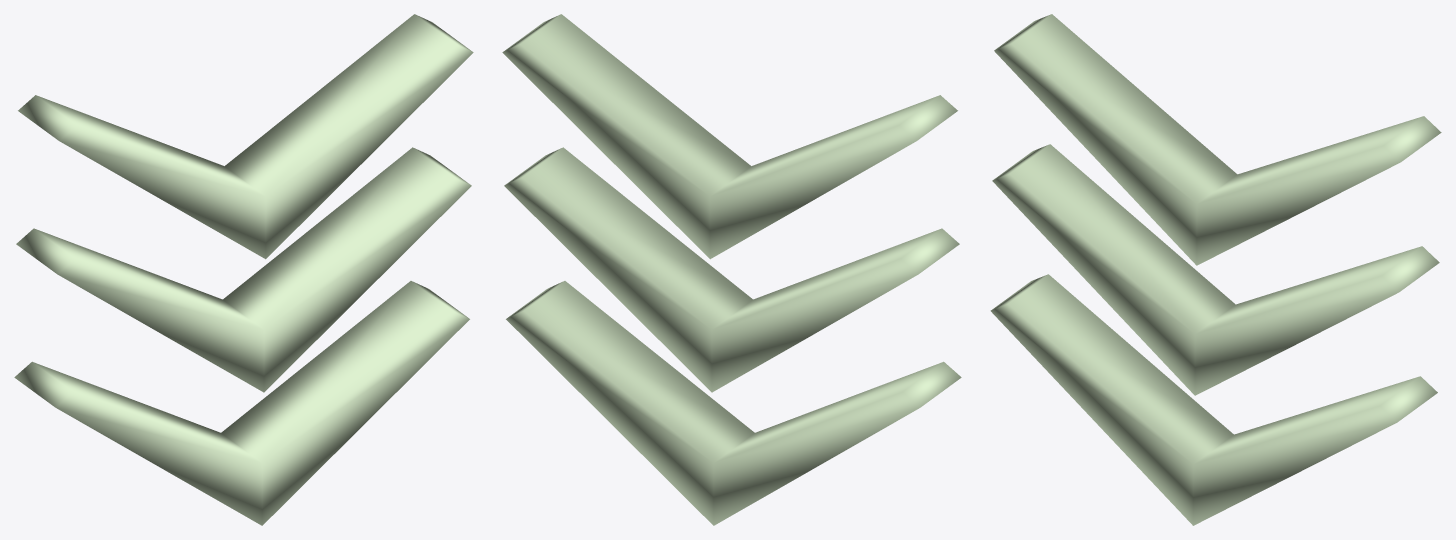
File: arrow.fbx
3 views of the same model, side by side, from view 1: azimuth 30°, elevation 25°; view 2: azimuth 150°, elevation 25°; view 3: azimuth 330°, elevation 25° (orthographic).
Parts seen in each view (by area): view 1: obj_0; view 2: obj_0; view 3: obj_0.
Part boxes in pixels (left/top/right/bottom): obj_0: left=14, top=14, right=473, bottom=525; obj_0: left=502, top=14, right=961, bottom=525; obj_0: left=990, top=14, right=1441, bottom=525.
Size of the model in its own units: 19848 by 20224 by 3406.
